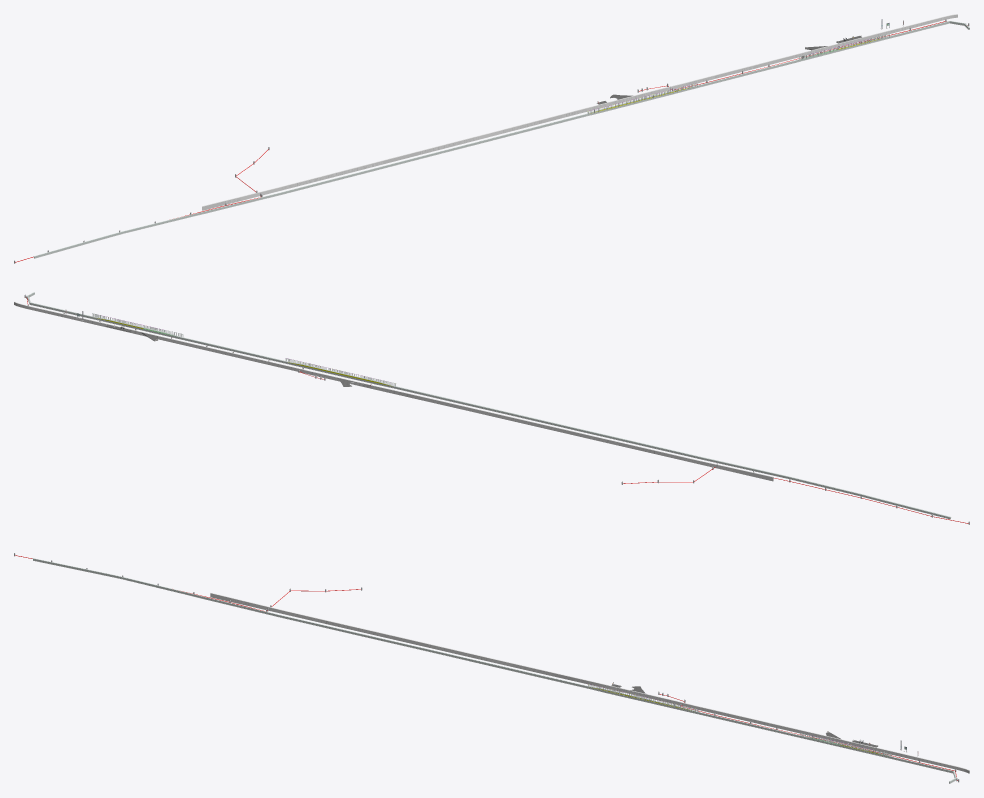
Rendered from 001WithoutFloor.glb.
The picture shows the model from 3 angles, top to bottom: view 1: azimuth 30°, elevation 25°; view 2: azimuth 150°, elevation 25°; view 3: azimuth 330°, elevation 25°; orthographic projection.
Visible parts, largest first — view 1: Geom3D (×2); view 2: Geom3D (×2); view 3: Geom3D (×2).
Part boxes in pixels (left/top/right/bottom): Geom3D (×2): left=33, top=14, right=969, bottom=258; Geom3D (×2): left=14, top=292, right=951, bottom=519; Geom3D (×2): left=32, top=558, right=969, bottom=783.
Size of the model in its own units: 481 by 7.15 by 44.25.
44 materials, 38 textured.
